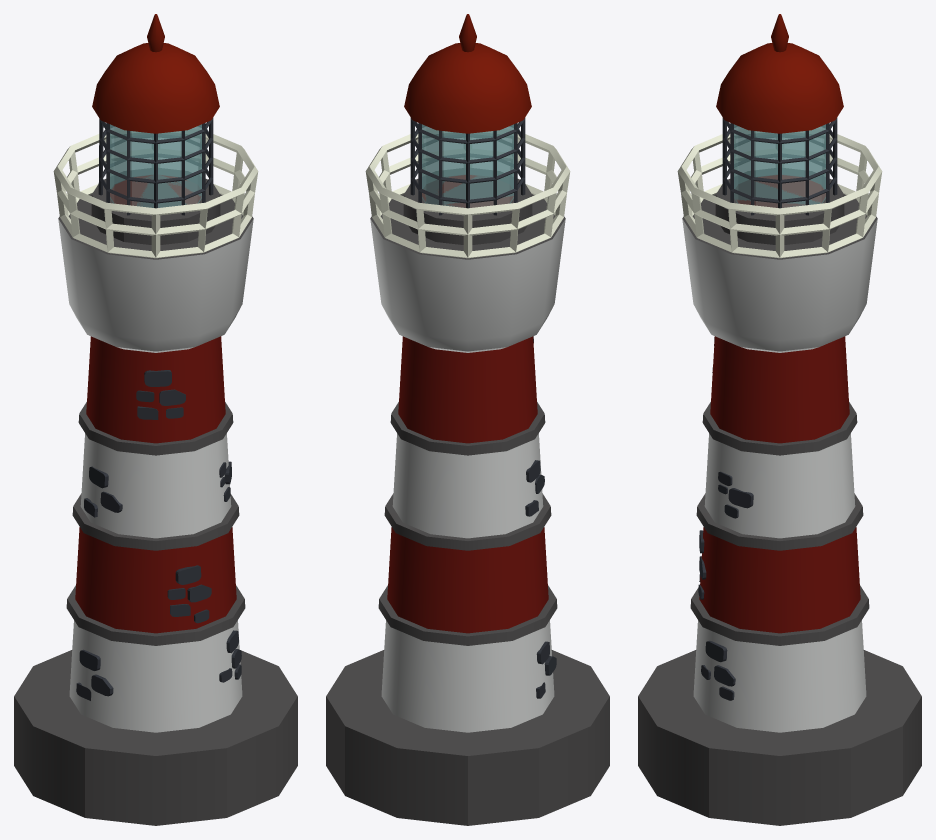
Rendered from lighthouse2.fbx.
3 views of the same model, side by side, from view 1: azimuth 30°, elevation 25°; view 2: azimuth 150°, elevation 25°; view 3: azimuth 270°, elevation 25° (orthographic).
Parts seen in each view (by area): view 1: Sphere; view 2: Sphere; view 3: Sphere.
Boxes of the visible parts, x1,y1,x2,y2 form: Sphere: (14, 14, 297, 825); Sphere: (326, 14, 609, 825); Sphere: (638, 14, 921, 825).
Size of the model in its own units: 1.08 by 3.16 by 1.08.
